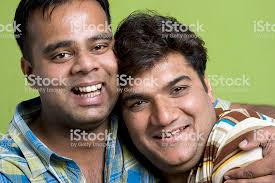Indian_Male: (37, 11, 119, 120)
